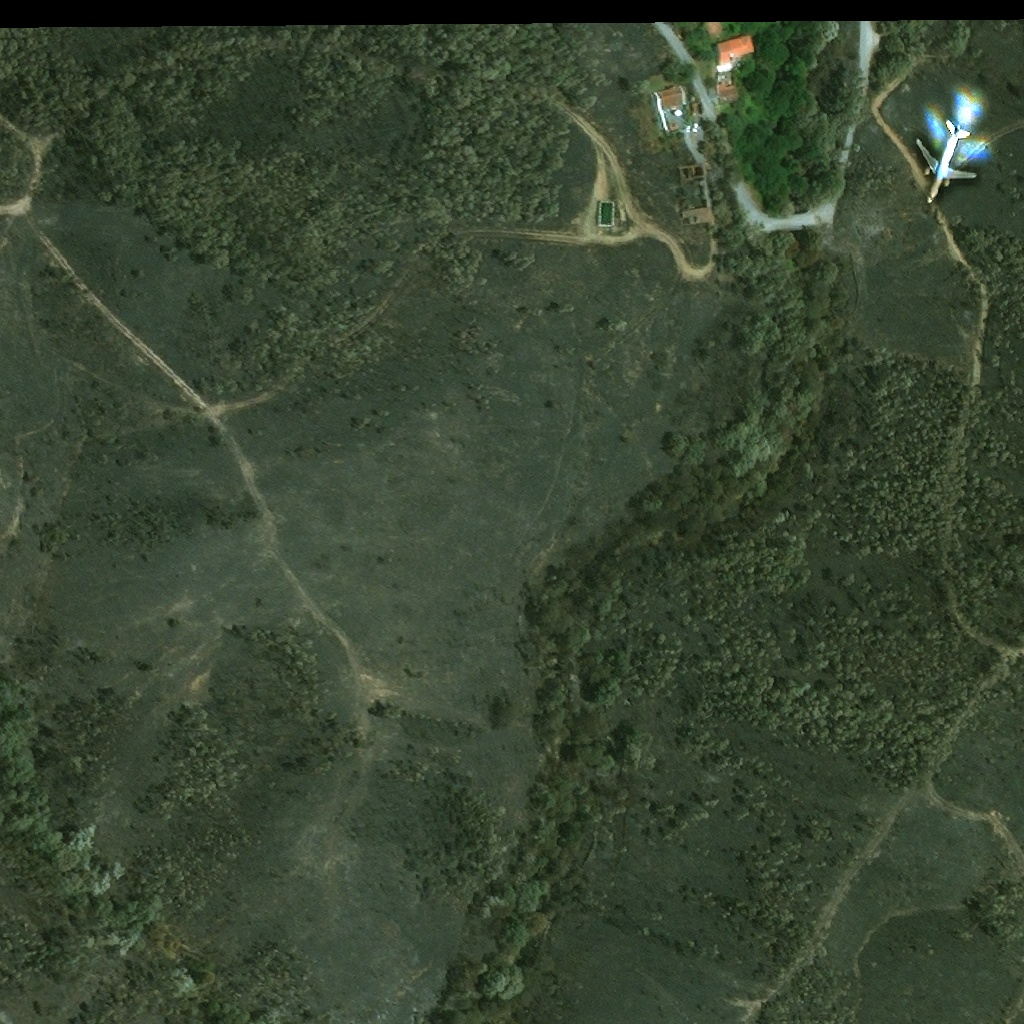0 no-damage: (652, 85, 703, 136), (713, 35, 754, 74), (697, 18, 725, 47), (712, 83, 743, 107)
3 destroyed: (680, 207, 713, 226), (677, 162, 706, 182)
